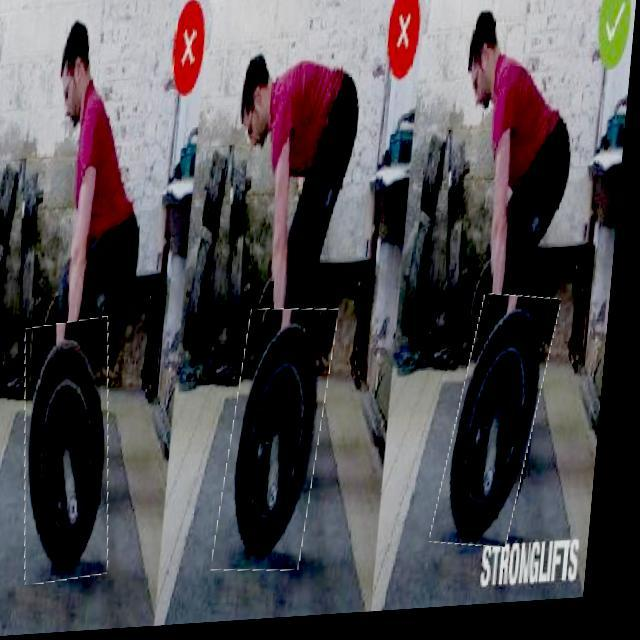barbell: (227, 312, 342, 579), (20, 320, 132, 586), (449, 301, 561, 557)
